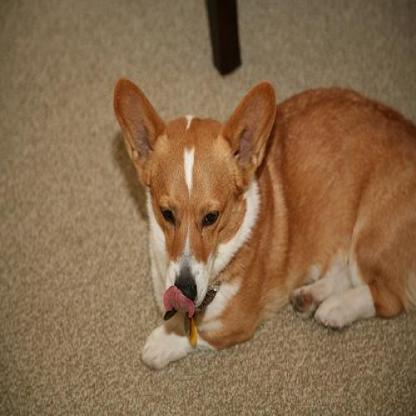Pembroke: (110, 74, 414, 368)
